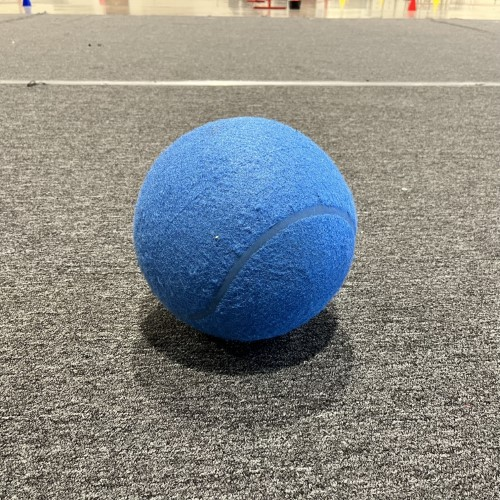blue: (130, 115, 358, 343)
